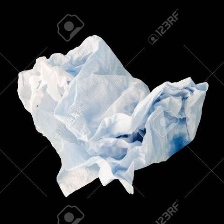tissue: (11, 30, 213, 200)
